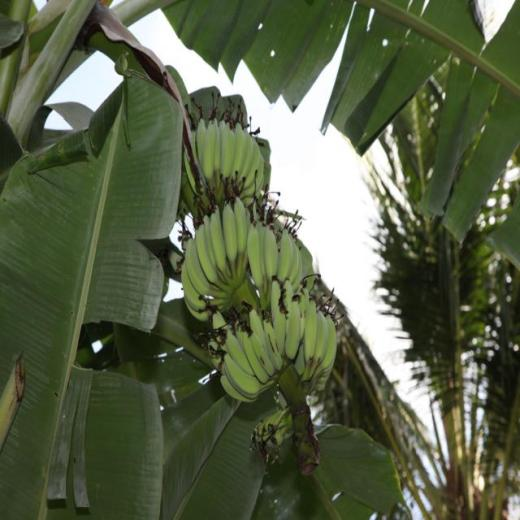Banana: (167, 85, 346, 435)
